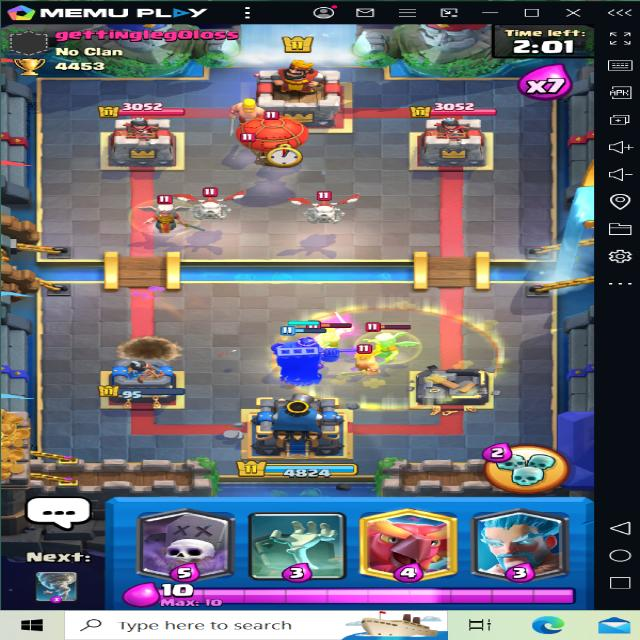balloon: (238, 109, 308, 168)
barbarian: (221, 96, 267, 127), (307, 319, 350, 348), (348, 343, 382, 375)
battle-healer: (120, 191, 204, 236), (353, 318, 429, 364)
skeleton-dragon: (287, 190, 358, 223), (183, 188, 243, 223)
